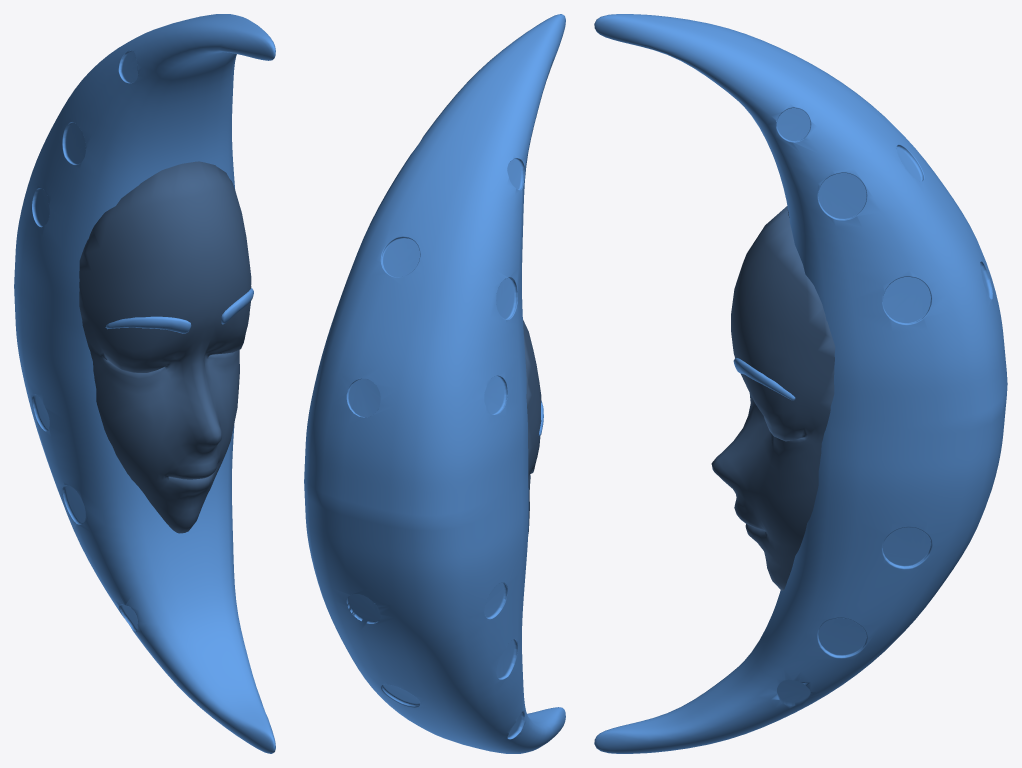
3 renders of one model, left to right at view 1: azimuth 30°, elevation 25°; view 2: azimuth 150°, elevation 25°; view 3: azimuth 270°, elevation 25°, orthographic. The views are drawn at different scales.
Visible parts, largest first — view 1: ay, yuz; view 2: ay, yuz; view 3: ay, yuz.
Part boxes in pixels (bbox=[...]): ay: bbox=[14, 14, 275, 753]; yuz: bbox=[79, 161, 253, 533]; ay: bbox=[304, 14, 565, 753]; yuz: bbox=[523, 320, 543, 533]; ay: bbox=[594, 14, 1007, 753]; yuz: bbox=[711, 206, 835, 590].
Size of the model in its own units: 25.85 by 98.14 by 49.82.
